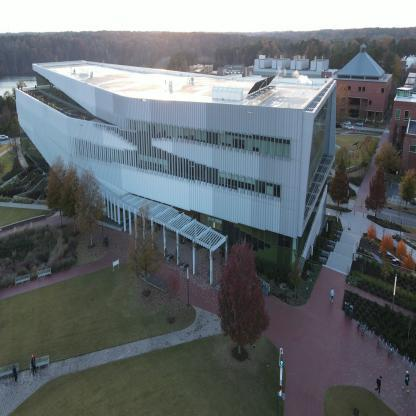Hunt Library: (0, 61, 357, 298)
